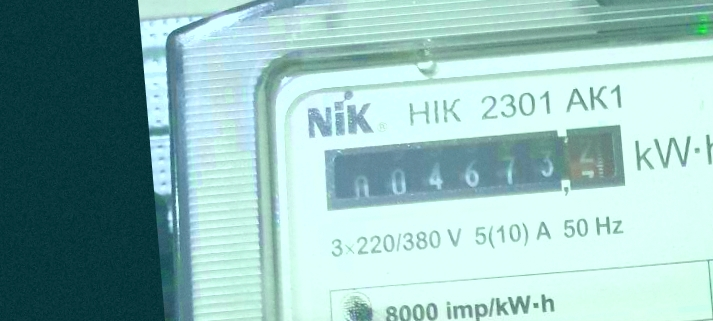0: (349, 170, 372, 201), (387, 165, 408, 197)
2: (574, 133, 597, 166)
3: (536, 145, 556, 180)
4: (425, 157, 446, 194)
6: (459, 154, 482, 190)
7: (496, 151, 521, 190)
screen: (317, 119, 631, 221)
